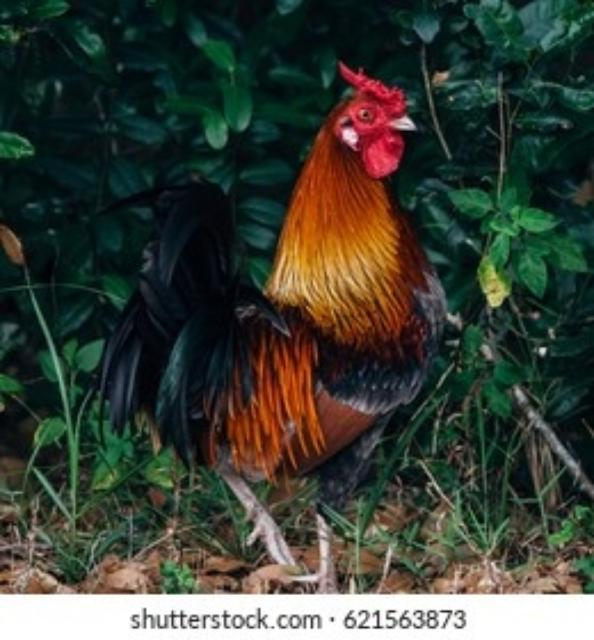Chicken: (97, 65, 429, 596)
